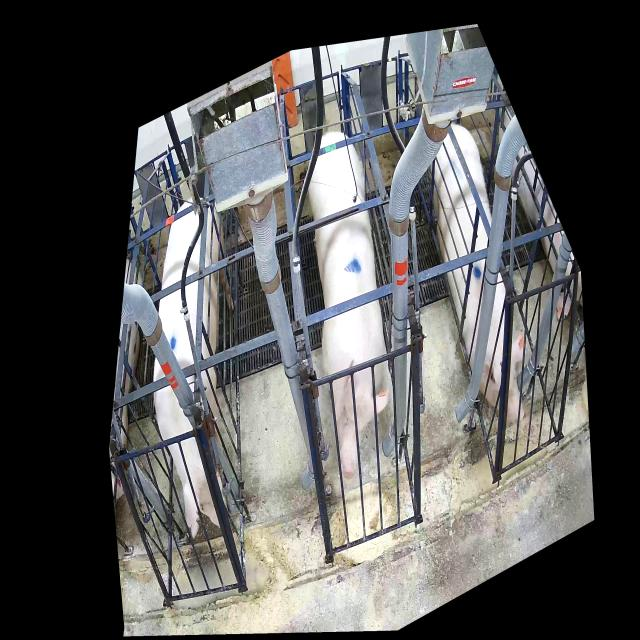pig: (430, 124, 526, 424), (308, 132, 389, 480), (153, 198, 235, 538)
